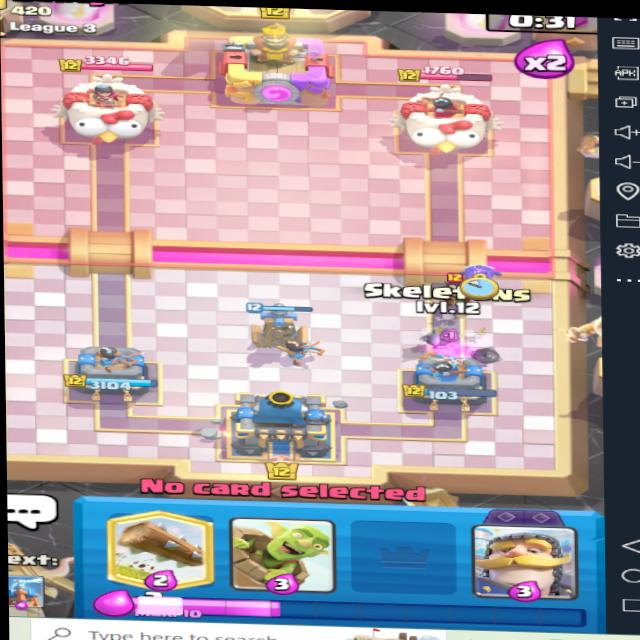electro-wizard: (420, 261, 484, 311)
